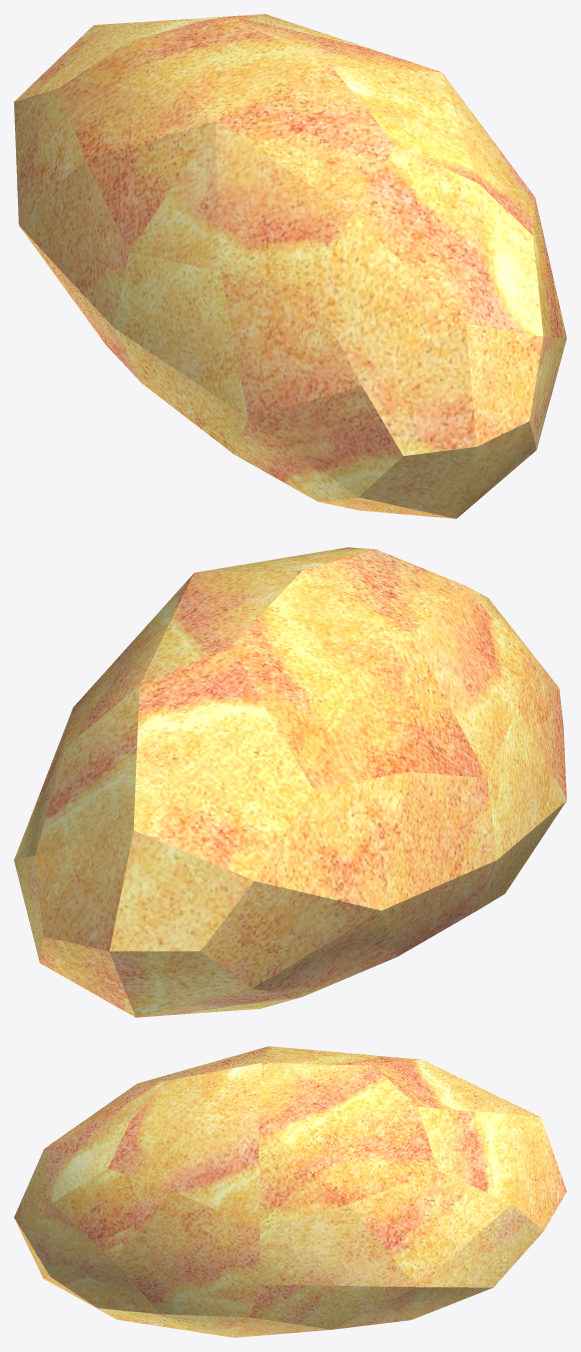
File: boulder-sm-2.glb
3 views of the same model, one above another, from view 1: azimuth 30°, elevation 25°; view 2: azimuth 150°, elevation 25°; view 3: azimuth 270°, elevation 25° (orthographic). The views are drawn at different scales.
Visible parts, largest first — view 1: Icosahedron_n3d; view 2: Icosahedron_n3d; view 3: Icosahedron_n3d.
Boxes of the visible parts, x1,y1,x2,y2 form: Icosahedron_n3d: (14,14,566,518); Icosahedron_n3d: (14,547,566,1017); Icosahedron_n3d: (14,1046,566,1337).
Bounding box in the file's own units: 0.2826 × 0.2632 × 0.514.
1 material, 1 textured.
